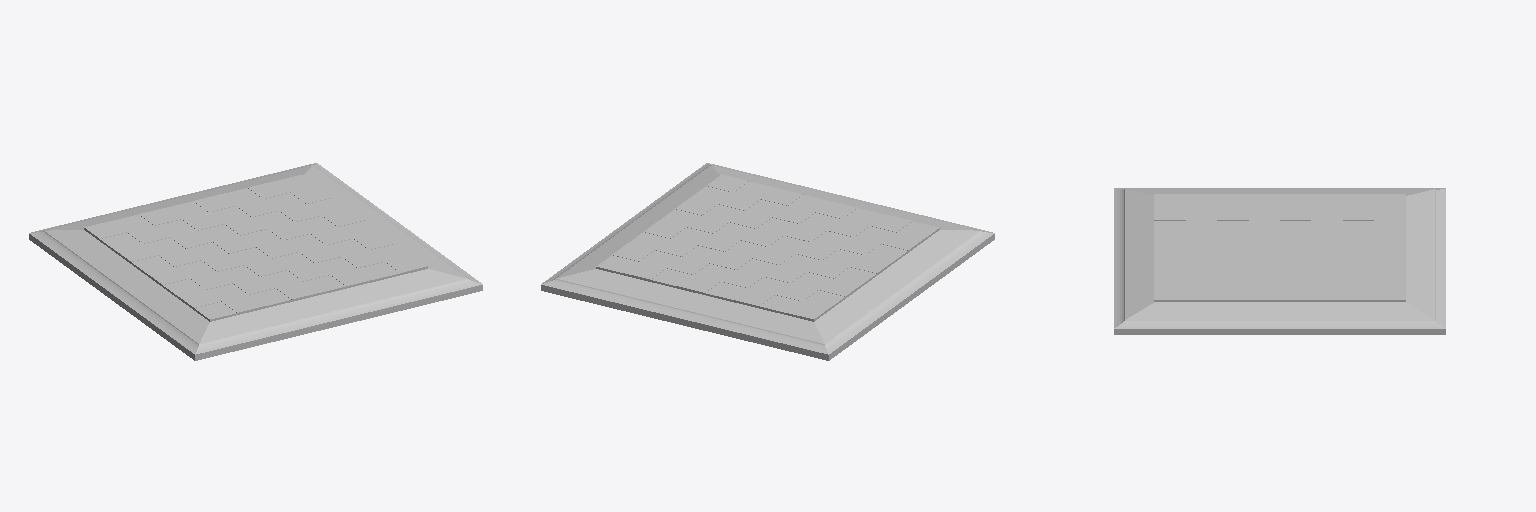
The model's file is chessboard.obj.
The picture shows the model from 3 angles: view 1: azimuth 30°, elevation 25°; view 2: azimuth 150°, elevation 25°; view 3: azimuth 270°, elevation 25°; orthographic projection.
Visible parts, largest first — view 1: Chess_Board_Cube; view 2: Chess_Board_Cube; view 3: Chess_Board_Cube.
Part boxes in pixels (left/top/right/bottom): Chess_Board_Cube: left=29, top=163, right=482, bottom=360; Chess_Board_Cube: left=541, top=163, right=994, bottom=360; Chess_Board_Cube: left=1114, top=188, right=1445, bottom=334.
Size of the model in its own units: 18 by 1.08 by 18.